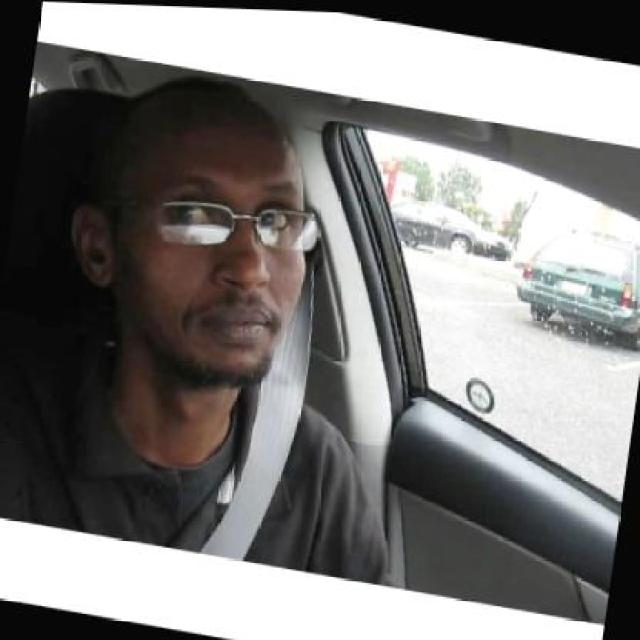attentif: (51, 53, 327, 399)
